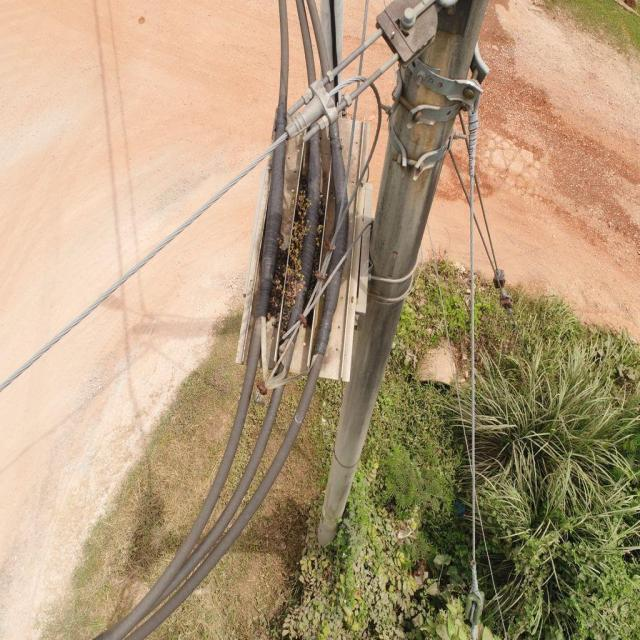light_pole: (263, 172, 338, 334)
